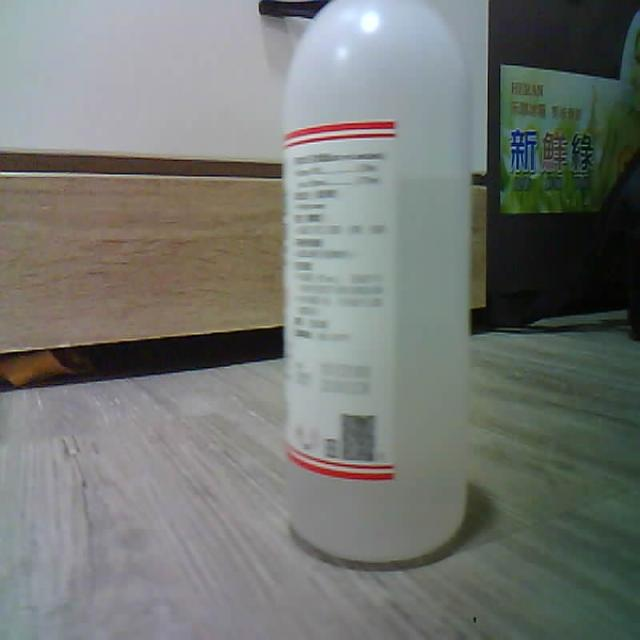bottle: (283, 0, 472, 562)
